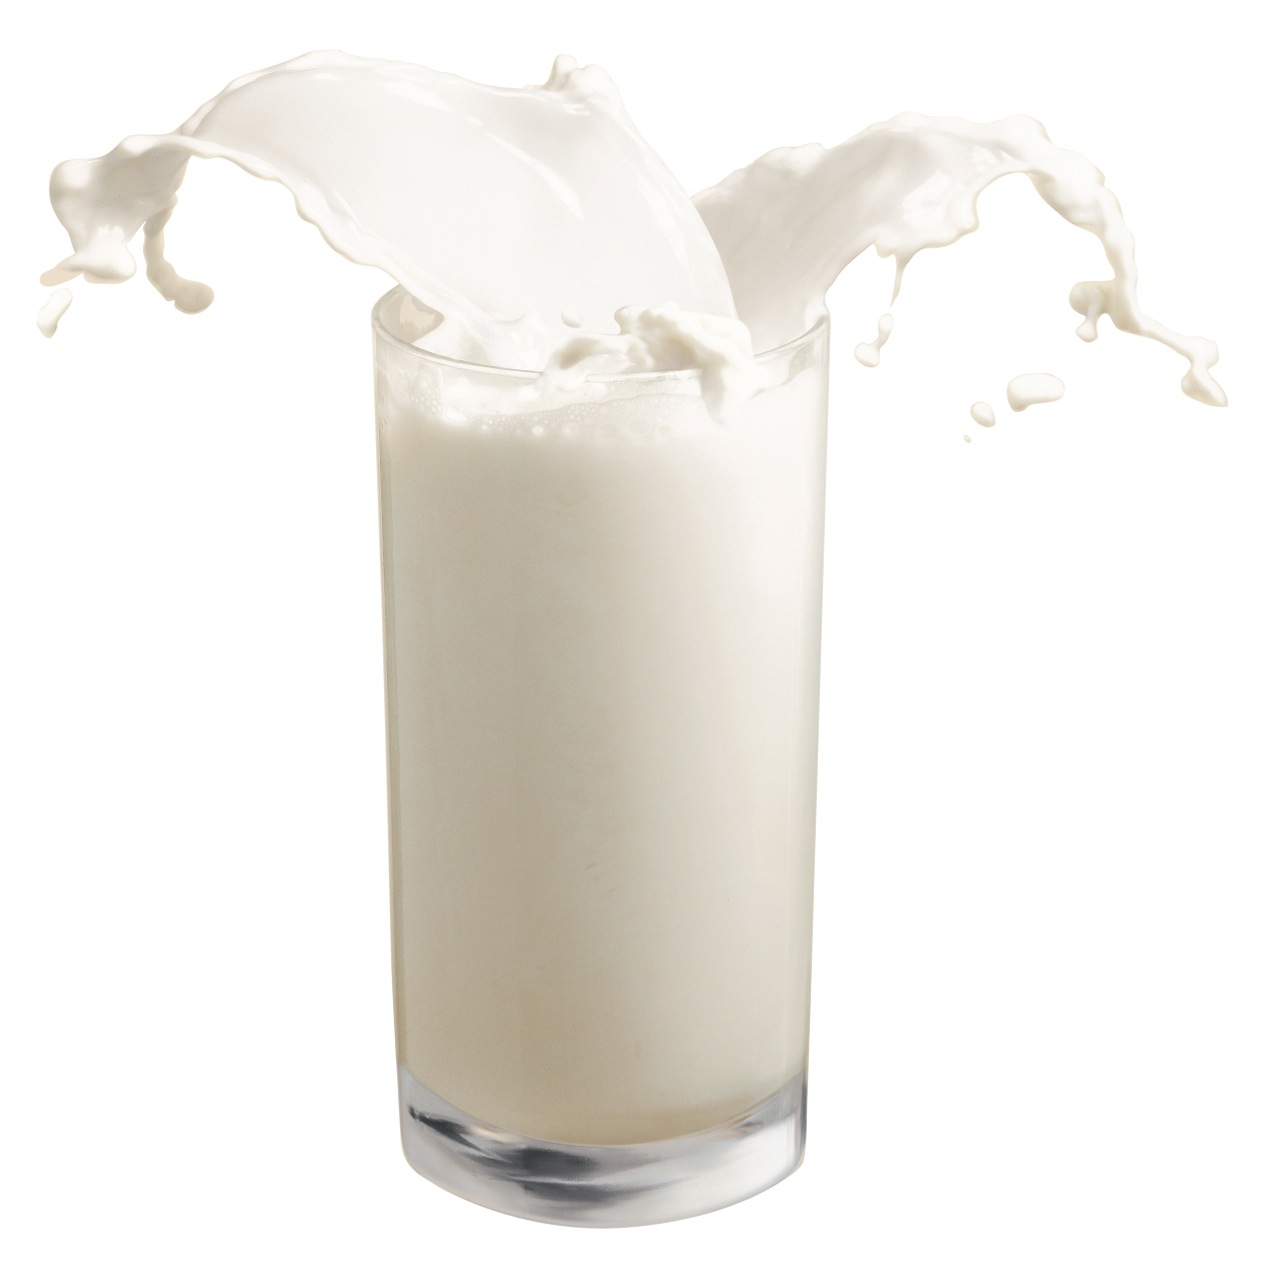glass of milk: (383, 313, 834, 1178)
